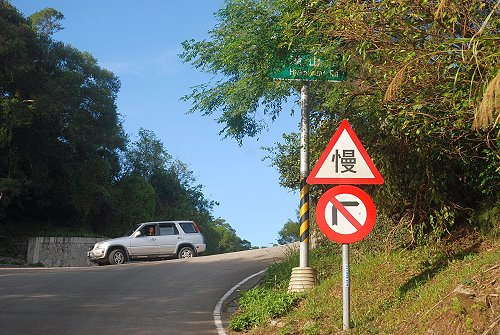No_right_turn: (316, 184, 376, 244)
